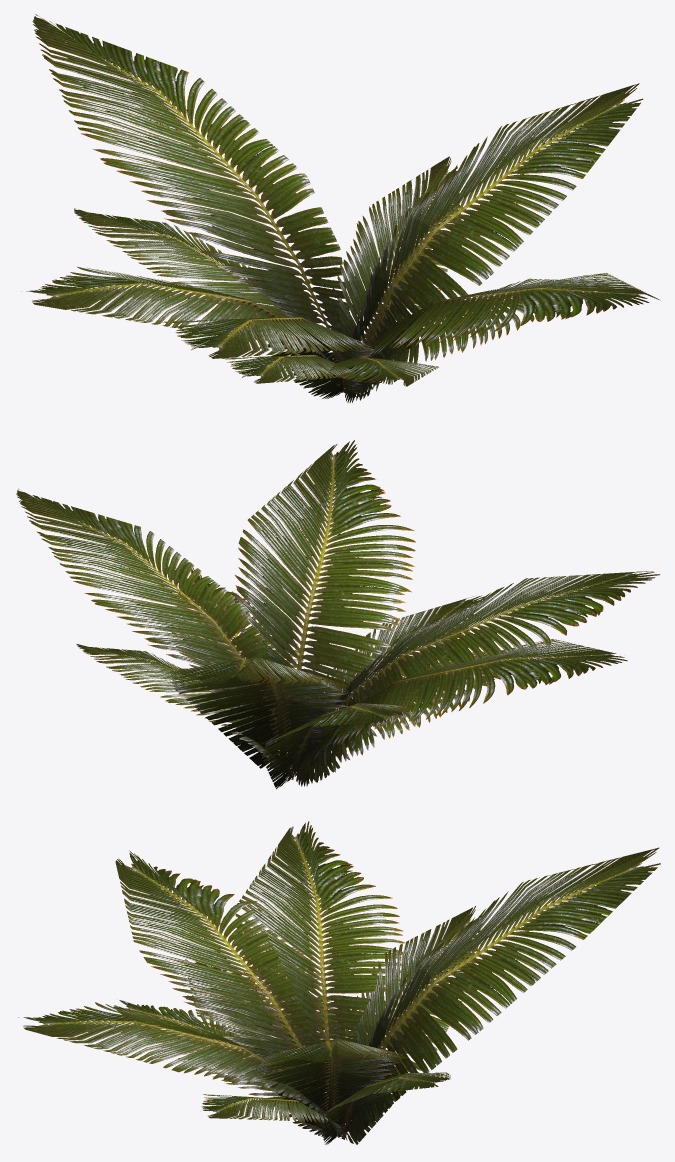
The model's file is Busch3 1.fbx.
3 renders of one model, top to bottom at view 1: azimuth 30°, elevation 25°; view 2: azimuth 150°, elevation 25°; view 3: azimuth 270°, elevation 25°, orthographic. The views are drawn at different scales.
Parts seen in each view (by area): view 1: Plane; view 2: Plane; view 3: Plane.
Part boxes in pixels (x1,y1,x2,y2): Plane: (26,14,660,402); Plane: (16,440,660,789); Plane: (18,821,660,1144).
Size of the model in its own units: 477 by 200 by 482.
Materials: 1 (1 with a texture image).
